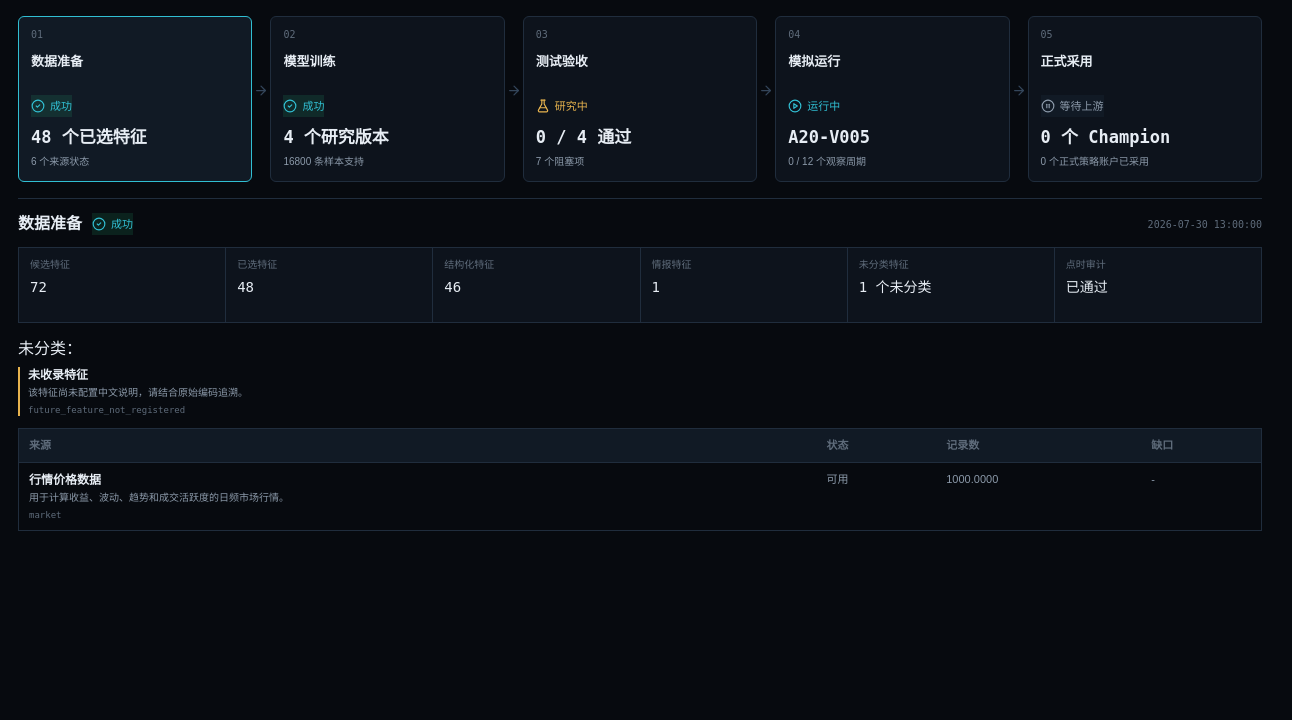
Test: ModelResearchPage › keeps old model runs in a collapsed history archive
Expected: the text "A20-V005" is shown, x1=788 y1=127 x2=870 y2=147
Step 1. Click the button "02 模型训练 成功 4 个研究版本 16800 条样本支持" → point(388, 99), box x1=270 y1=16 x2=505 y2=182
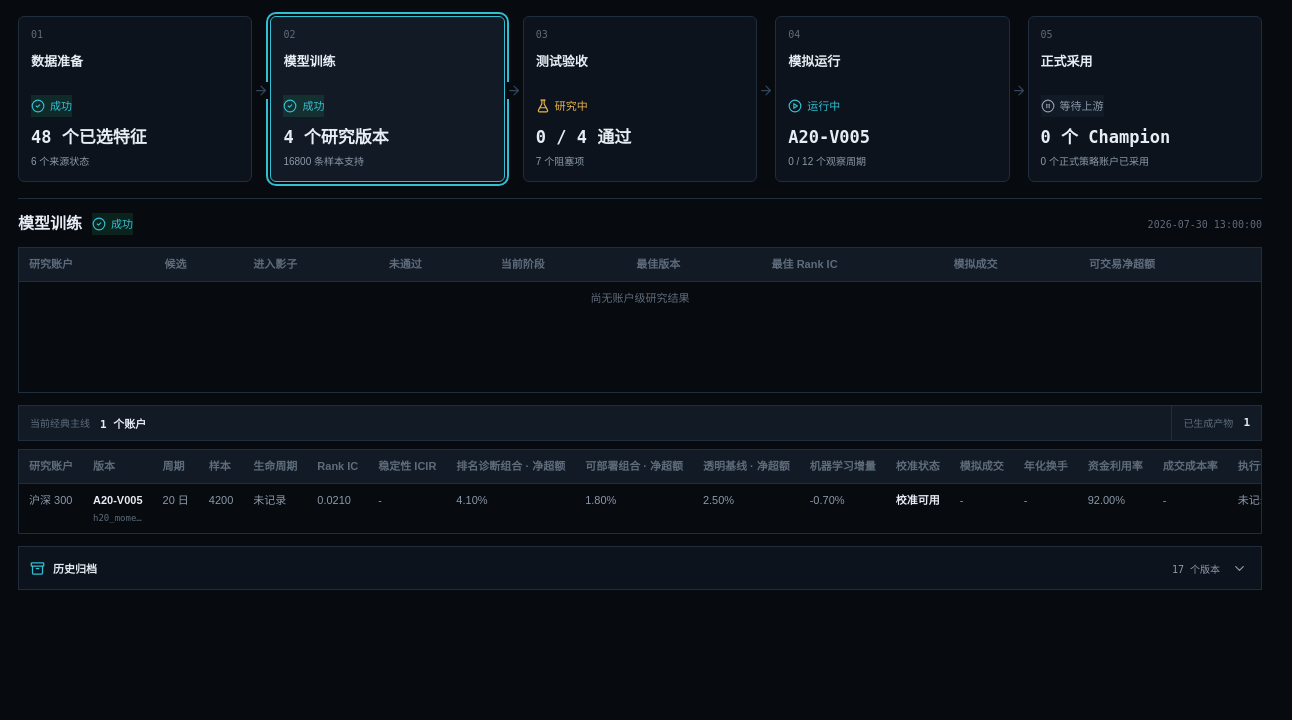
Expected: the text "历史归档" is shown
Expected: the text "17 个版本" is shown, x1=1172 y1=561 x2=1220 y2=576
Step 2. Click the text "历史归档" → point(75, 568), box x1=53 y1=560 x2=97 y2=576
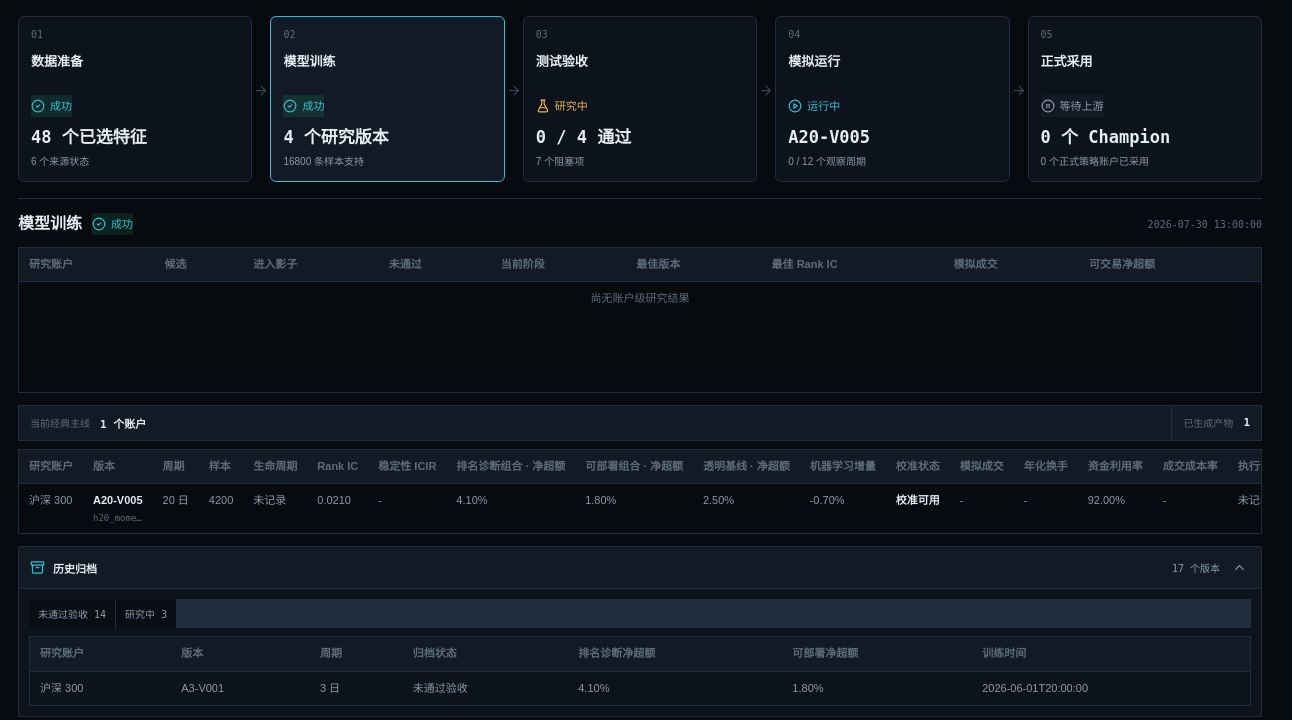
Expected: the text "A3-V001" is shown, x1=171 y1=671 x2=310 y2=705
Expected: the text "未通过验收 14" is shown, x1=29 y1=599 x2=115 y2=628
Expected: the text "研究中 3" is shown, x1=116 y1=599 x2=176 y2=628
